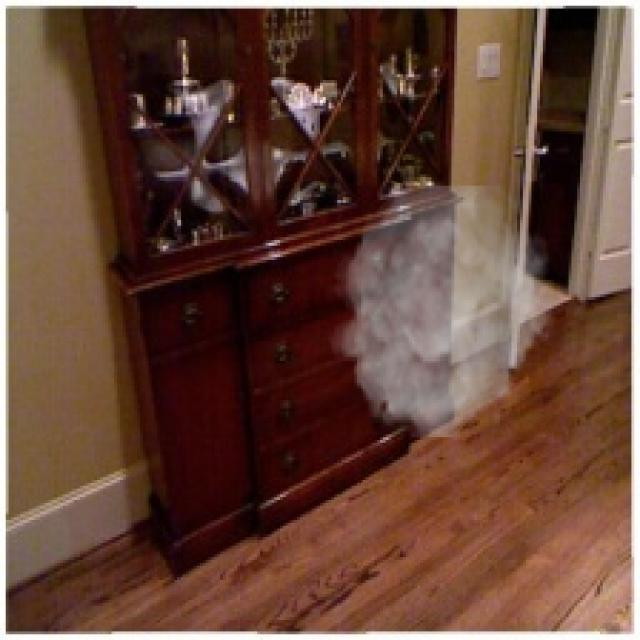Smoke: (328, 186, 558, 437)
